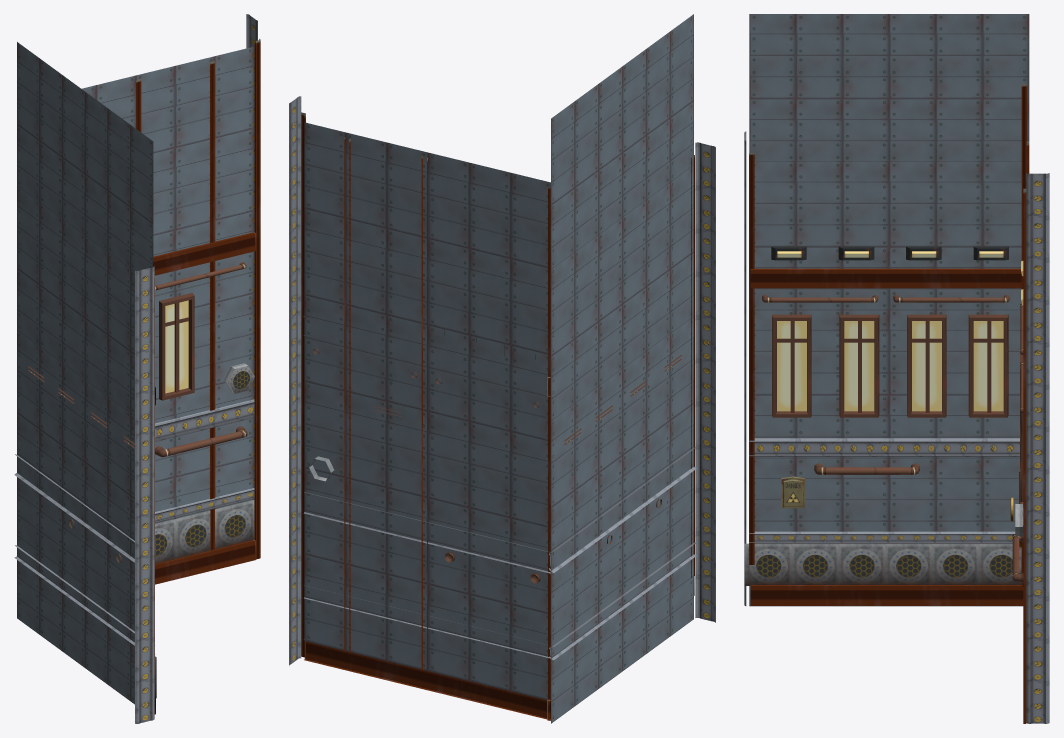
The model's file is normal5.fbx.
3 views of the same model, side by side, from view 1: azimuth 30°, elevation 25°; view 2: azimuth 150°, elevation 25°; view 3: azimuth 270°, elevation 25° (orthographic). The views are drawn at different scales.
Visible parts, largest first — view 1: normal5; view 2: normal5; view 3: normal5.
Boxes of the visible parts, x1,y1,x2,y2 form: normal5: [14, 14, 260, 723]; normal5: [289, 14, 715, 723]; normal5: [744, 14, 1049, 723].
Size of the model in its own units: 2649 by 5600 by 2616.
